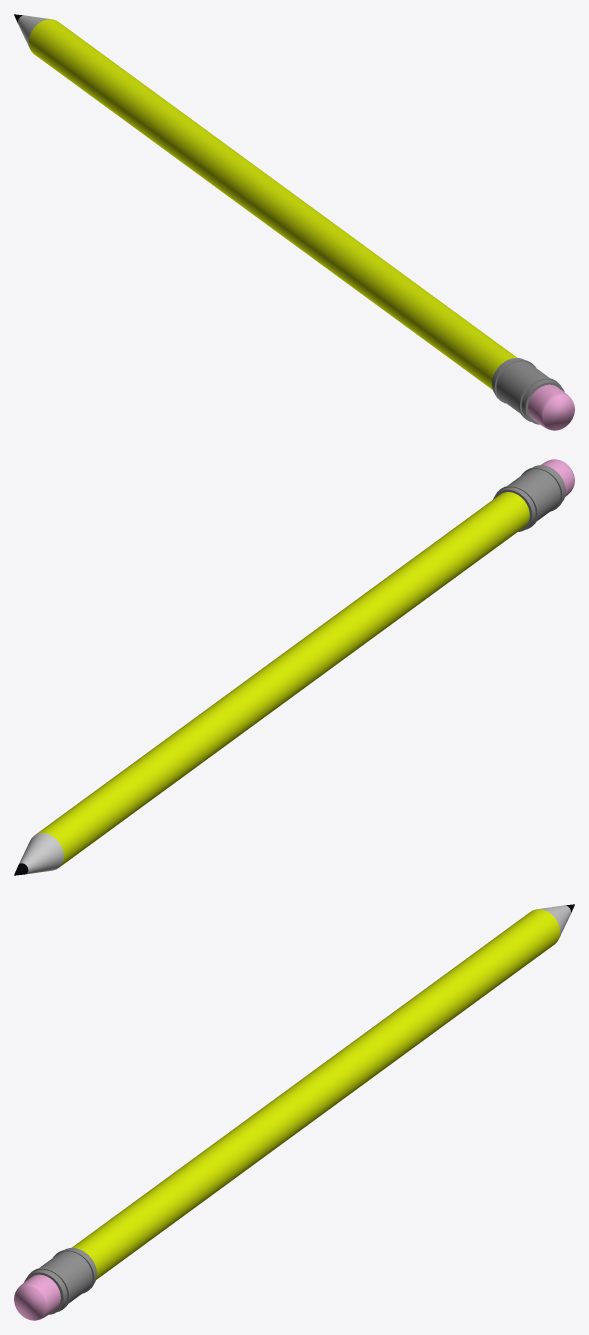
The model's file is Pensil.fbx.
3 views of the same model, one above another, from view 1: azimuth 30°, elevation 25°; view 2: azimuth 150°, elevation 25°; view 3: azimuth 330°, elevation 25° (orthographic).
Parts seen in each view (by area): view 1: pensil; view 2: pensil; view 3: pensil.
Boxes of the visible parts, <box> form: pensil: <box>14,14,574,430</box>; pensil: <box>14,459,574,875</box>; pensil: <box>14,904,574,1320</box>.
Size of the model in its own units: 0.5483 by 0.508 by 11.72.
